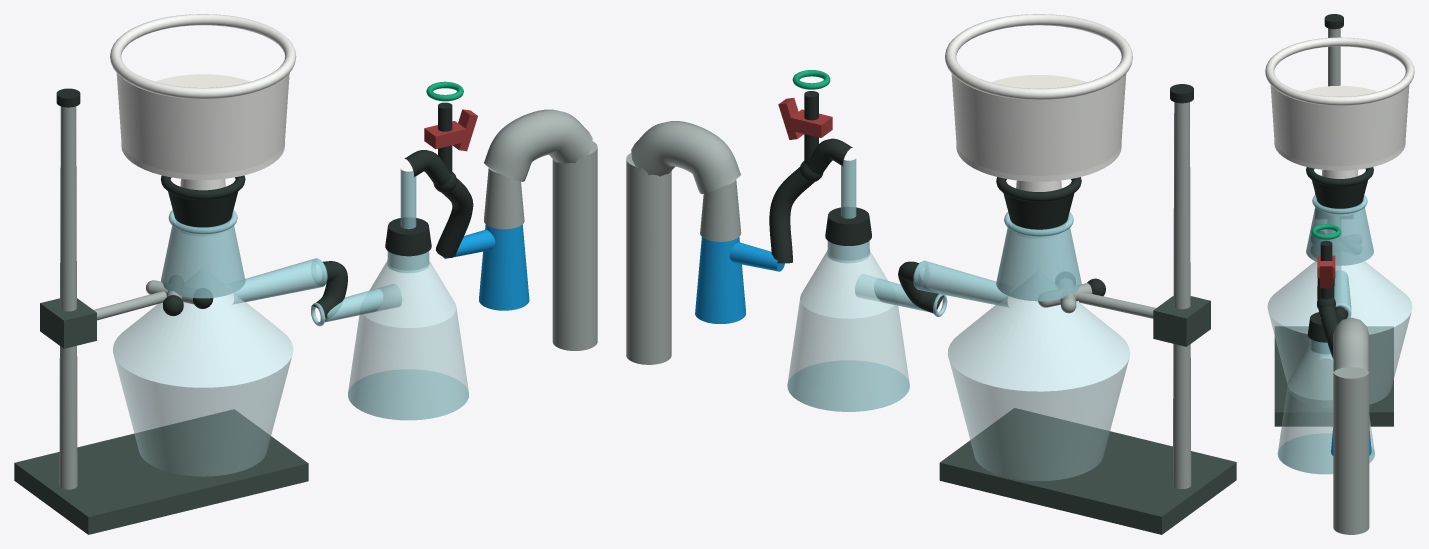
The model's file is filtracao-completa.glb.
The picture shows the model from 3 angles, left to right: view 1: azimuth 30°, elevation 25°; view 2: azimuth 150°, elevation 25°; view 3: azimuth 270°, elevation 25°; orthographic projection. The views are drawn at different scales.
Parts seen in each view (by area): view 1: filter-flask, stand, aspirator, vacuum-trap, buchner, clamp, vent-clamp, adapter, vacuum-hose-out, vacuum-hose-in, filter-paper; view 2: filter-flask, stand, aspirator, buchner, vacuum-trap, clamp, vacuum-hose-out, vent-clamp, adapter, vacuum-hose-in, filter-paper; view 3: filter-flask, buchner, aspirator, stand, vacuum-trap, adapter, vent-clamp, vacuum-hose-out, filter-paper.
Boxes of the visible parts, <box> form: filter-flask: <box>113,210,327,476</box>; stand: <box>14,88,308,534</box>; aspirator: <box>443,109,597,350</box>; vacuum-trap: <box>311,169,468,420</box>; buchner: <box>110,14,296,190</box>; clamp: <box>40,280,213,348</box>; vent-clamp: <box>424,81,477,192</box>; adapter: <box>161,175,245,227</box>; vacuum-hose-out: <box>404,150,473,257</box>; vacuum-hose-in: <box>311,261,347,321</box>; filter-paper: <box>156,74,250,87</box>; filter-flask: <box>913,212,1129,481</box>; stand: <box>939,84,1236,534</box>; aspirator: <box>626,121,784,364</box>; buchner: <box>945,14,1132,191</box>; vacuum-trap: <box>787,158,947,411</box>; clamp: <box>1038,278,1210,346</box>; vacuum-hose-out: <box>769,138,852,263</box>; vent-clamp: <box>778,70,832,182</box>; adapter: <box>996,177,1081,229</box>; vacuum-hose-in: <box>898,261,943,313</box>; filter-paper: <box>991,75,1086,88</box>; filter-flask: <box>1267,195,1412,408</box>; buchner: <box>1265,37,1414,178</box>; aspirator: <box>1331,317,1371,534</box>; stand: <box>1274,14,1393,426</box>; vacuum-trap: <box>1277,312,1374,474</box>; adapter: <box>1306,167,1373,208</box>; vent-clamp: <box>1311,224,1341,309</box>; vacuum-hose-out: <box>1317,278,1339,358</box>; filter-paper: <box>1302,85,1377,96</box>.
Size of the model in its own units: 4.53 by 3.25 by 1.32.
